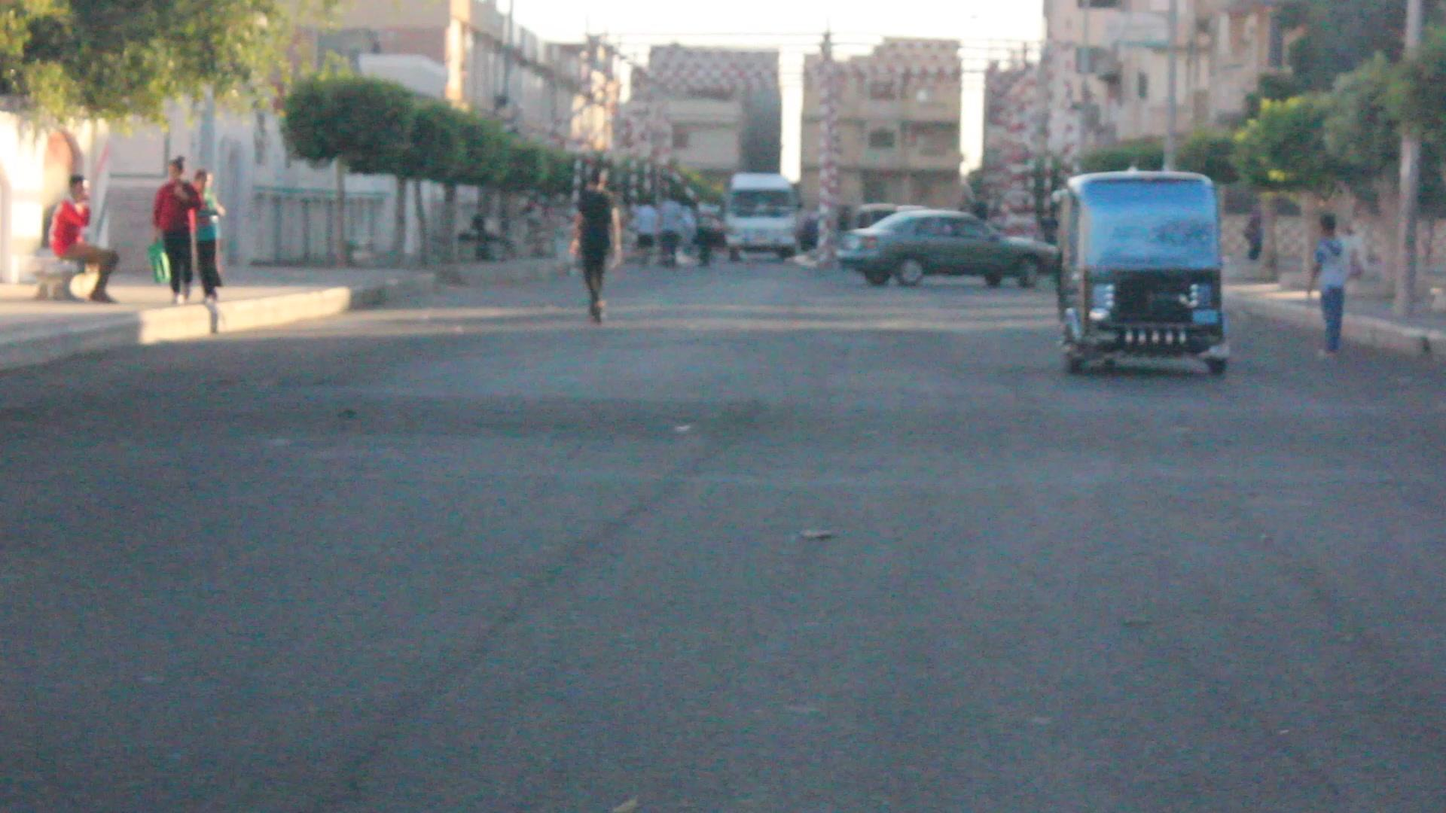Bump: (4, 358, 1446, 463)
